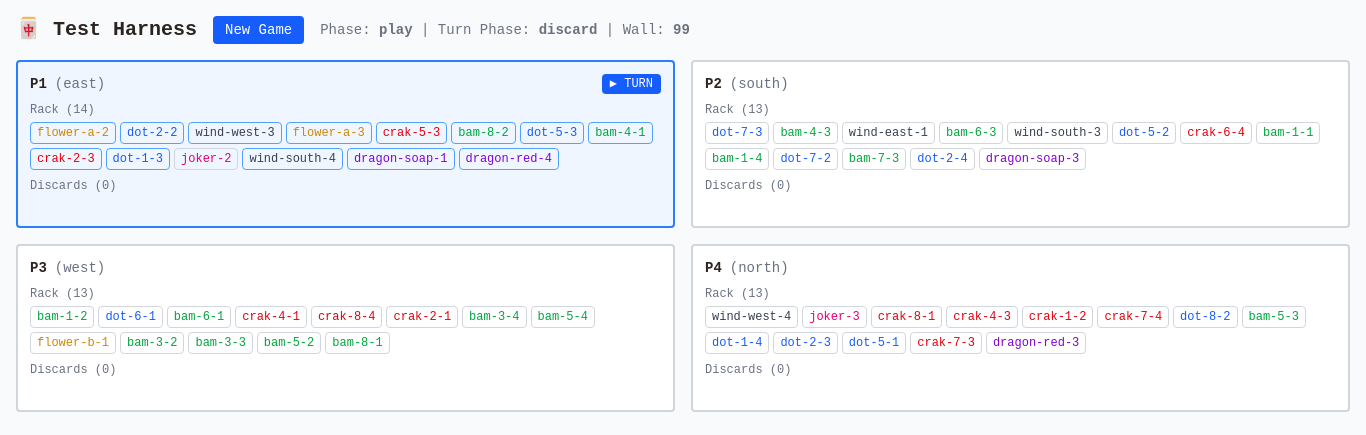
TestHarness – component rendering › clicking a rack tile discards it and updates the display
Click the button "flower-a-2": (73, 133) [30,122,116,144]
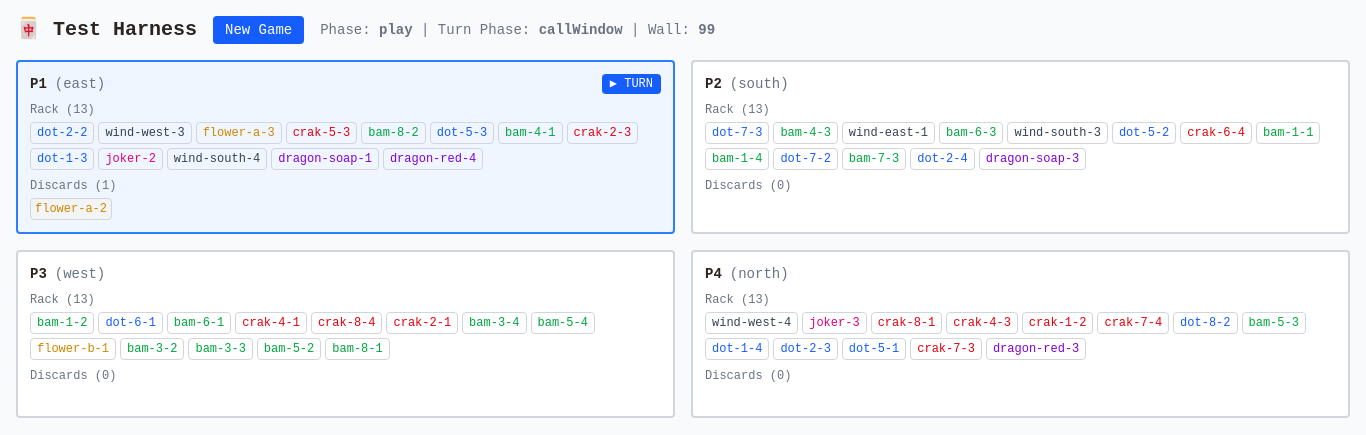
Expected: the text "Discards (1)" is shown, [30,179,116,193]
